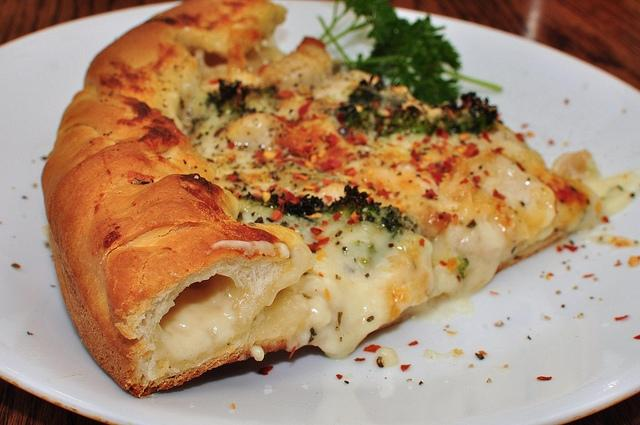broccoli: (326, 185, 417, 239), (426, 92, 496, 136), (347, 79, 408, 115), (205, 78, 256, 118), (380, 105, 422, 137), (283, 193, 324, 216), (345, 110, 362, 128)
